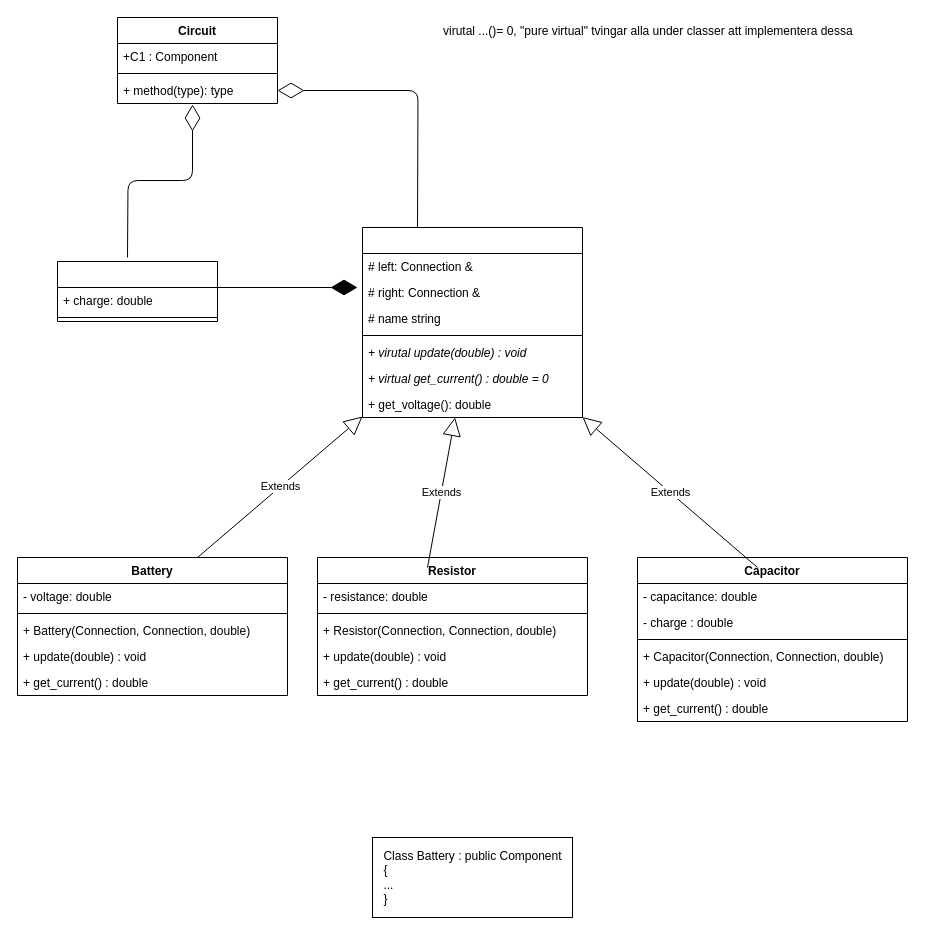
This 925x935 diagram has some shape labels left out. The box of each missing label's shape, as (x1, y1, x2, y2) in pixels:
Component: (362, 226, 582, 418)
Connection: (56, 260, 218, 322)
